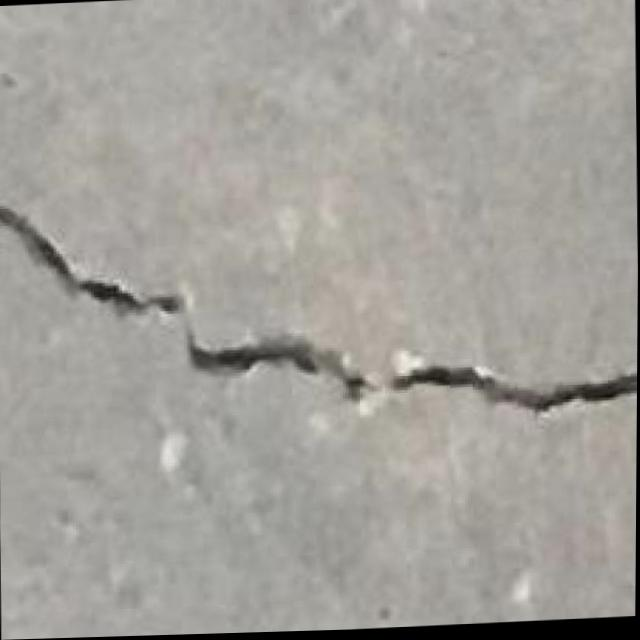Crack: (0, 173, 639, 438)
